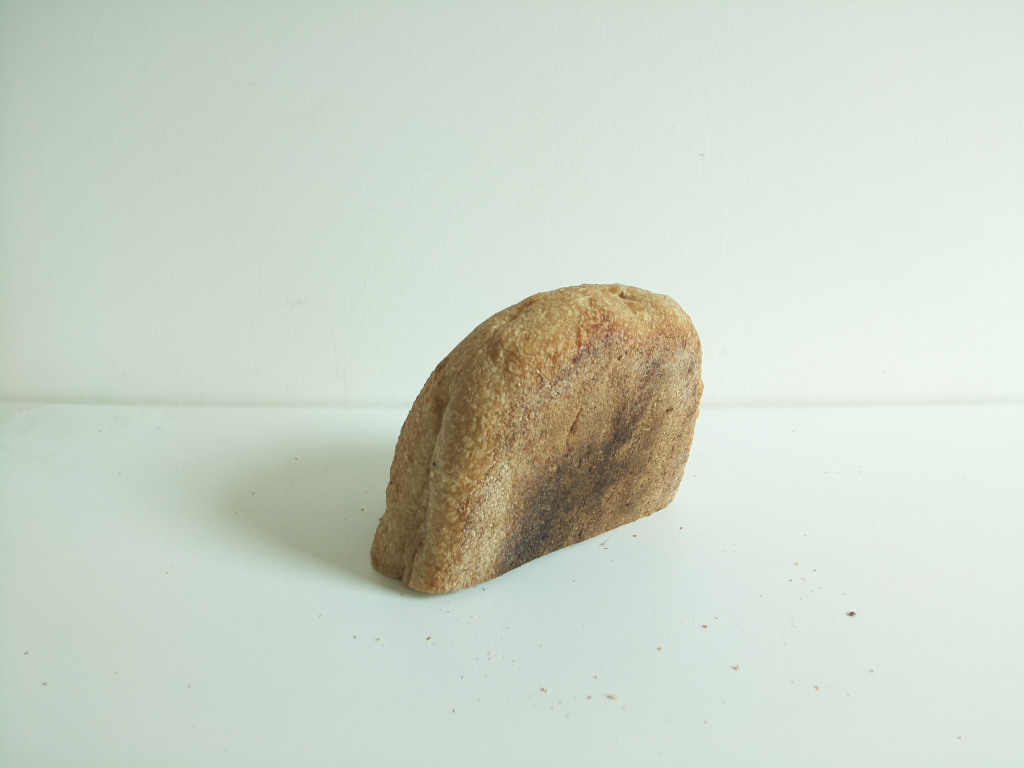bread: (370, 284, 705, 601)
